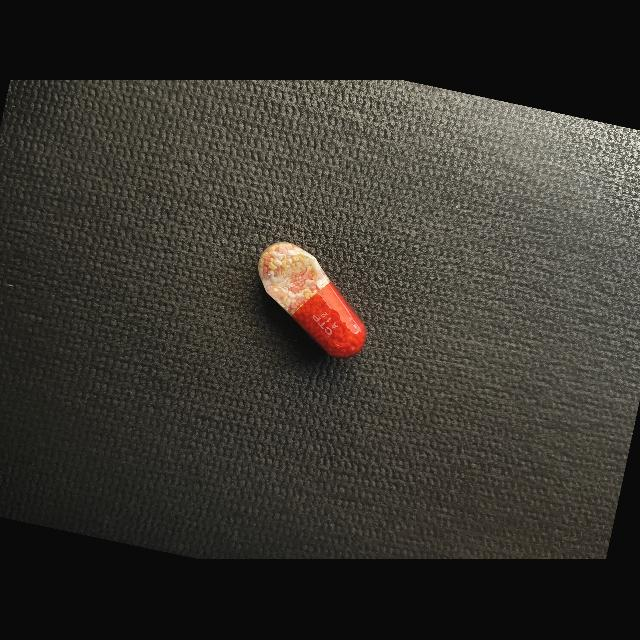Defective Capsule: (258, 242, 366, 359)
